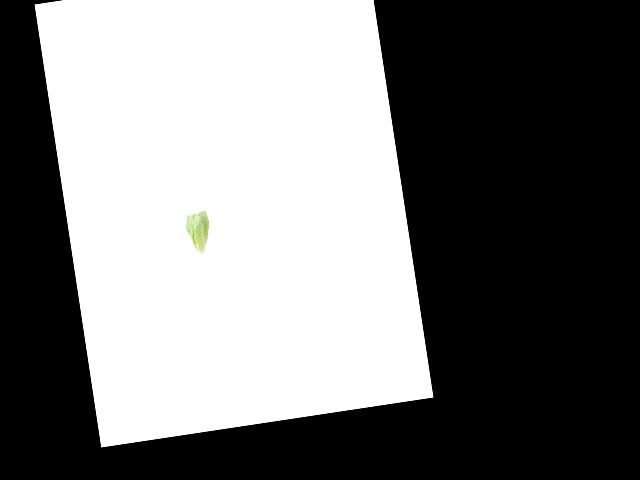lettuce: (180, 208, 217, 257)
